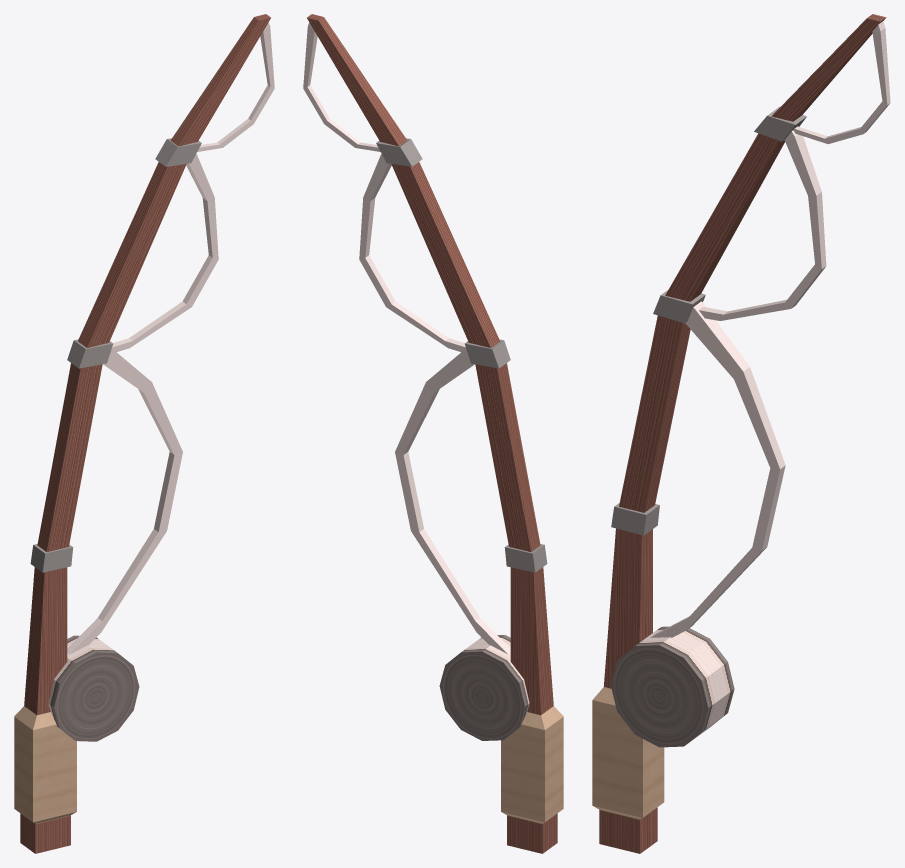
Rendered from FishingPole.fbx.
3 views of the same model, side by side, from view 1: azimuth 30°, elevation 25°; view 2: azimuth 150°, elevation 25°; view 3: azimuth 330°, elevation 25° (orthographic). The views are drawn at different scales.
Parts seen in each view (by area): view 1: FishingPole; view 2: FishingPole; view 3: FishingPole.
Part boxes in pixels (<box>): FishingPole: <box>14,14,274,853</box>; FishingPole: <box>303,14,563,853</box>; FishingPole: <box>592,14,890,853</box>.
Bounding box in the file's own units: 61.18 × 181 × 9.74.
